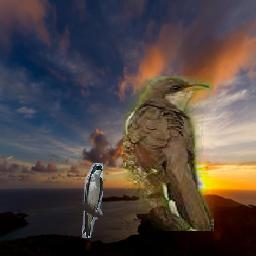Cuckoo: (124, 77, 215, 232)
Swallow: (83, 164, 104, 239)
